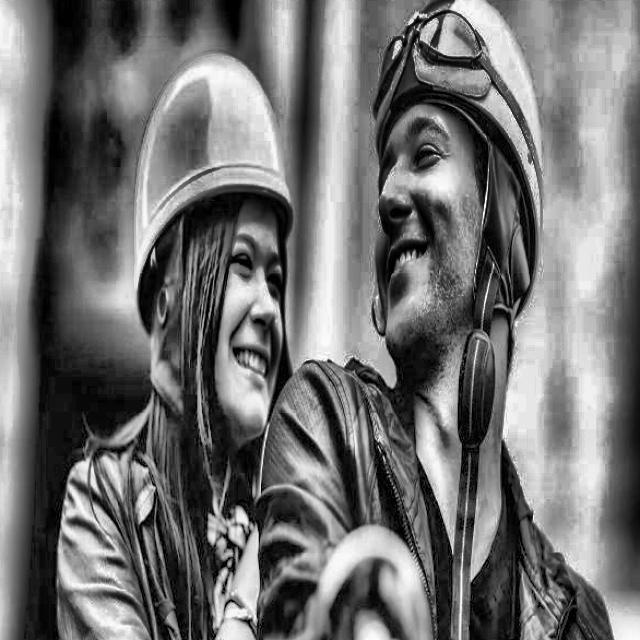Helmet: (130, 44, 298, 453)
